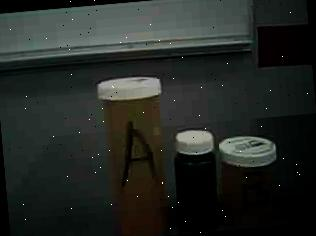Bottle A: (90, 69, 175, 236)
Bottle B: (218, 132, 283, 230)
Bottle C: (168, 125, 225, 235)
